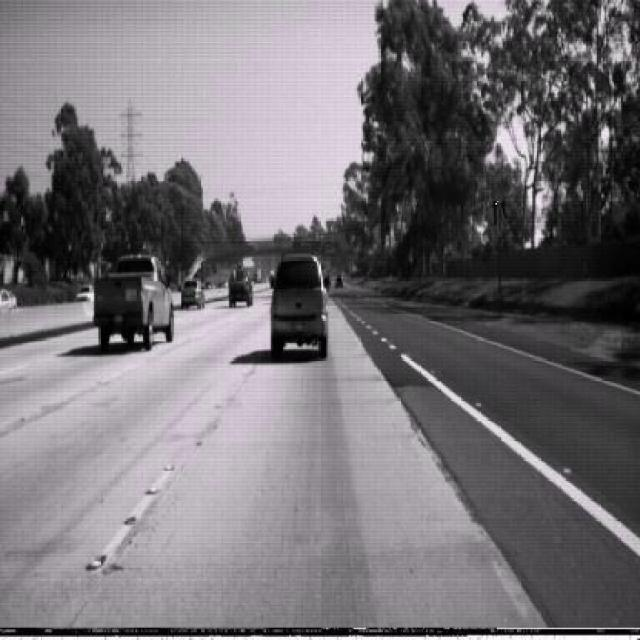addedLane: (485, 182, 511, 238)
